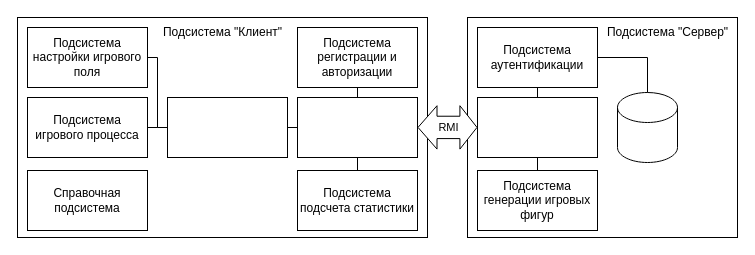
Some shapes in this 755 by 255 pixel diagram are drawn without their labels. The centre of each missing label's shape, as x and y in pixels:
База данных: (x=647, y=127)
Подсистема взаимодействия с клиентской частью: (x=537, y=127)
Подсистема взаимодействия с серверной частью: (x=357, y=127)
Подсистема визуализации: (x=227, y=127)
